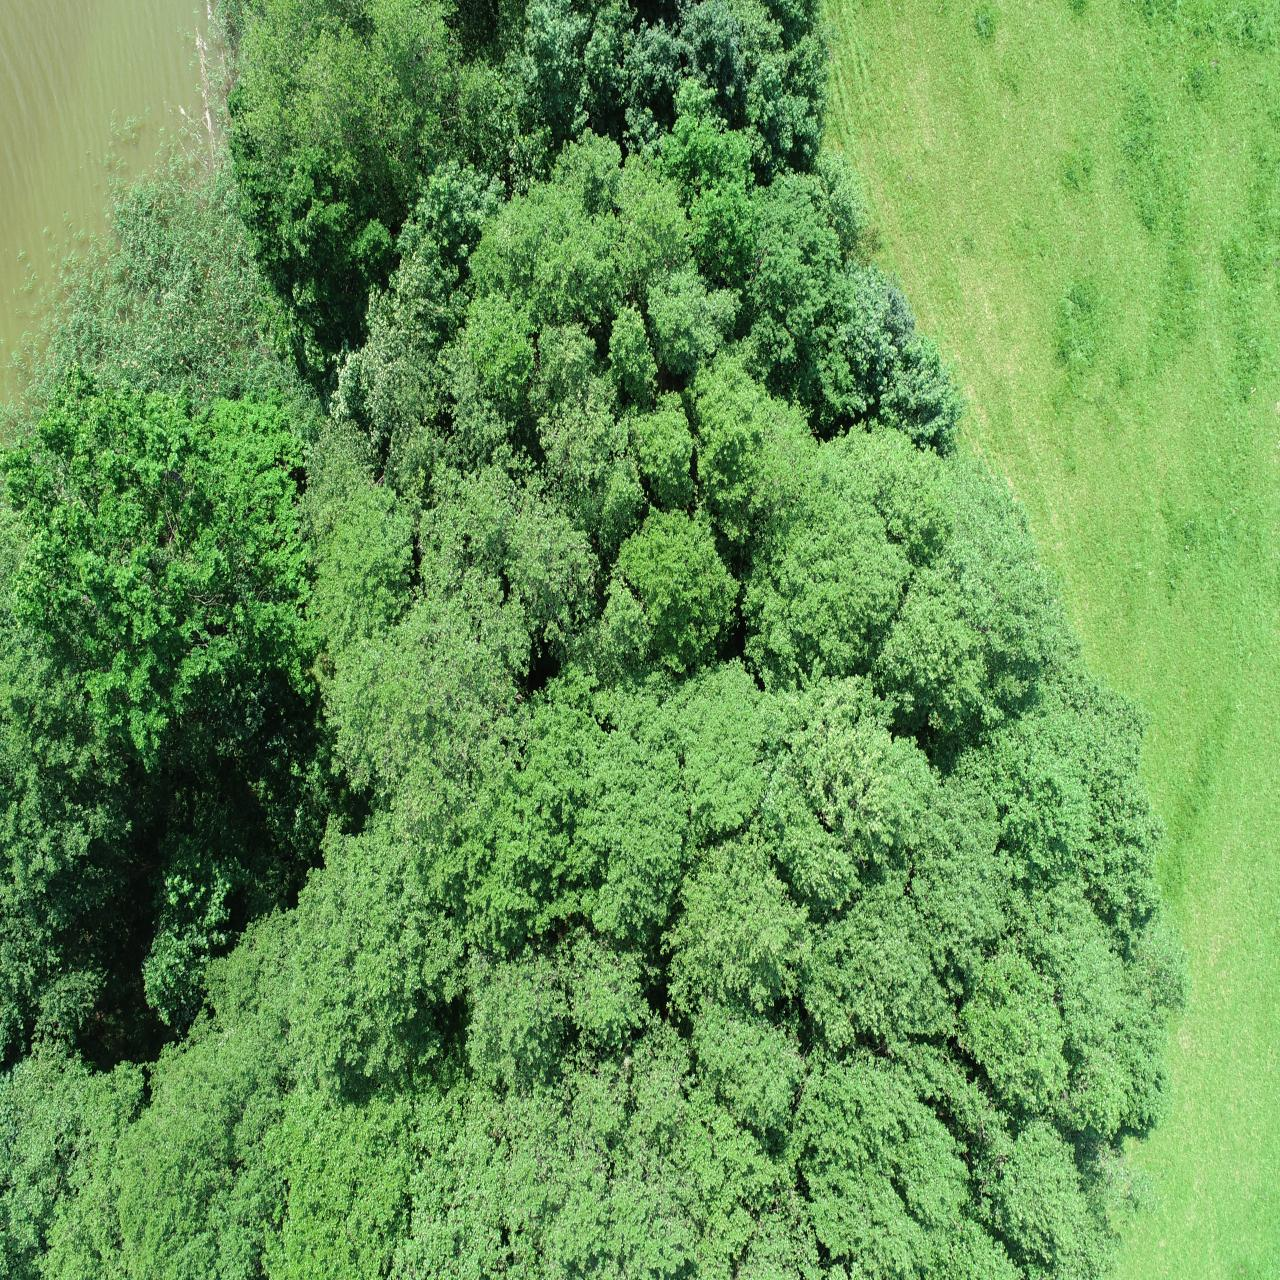cow: (592, 1003, 606, 1050)
